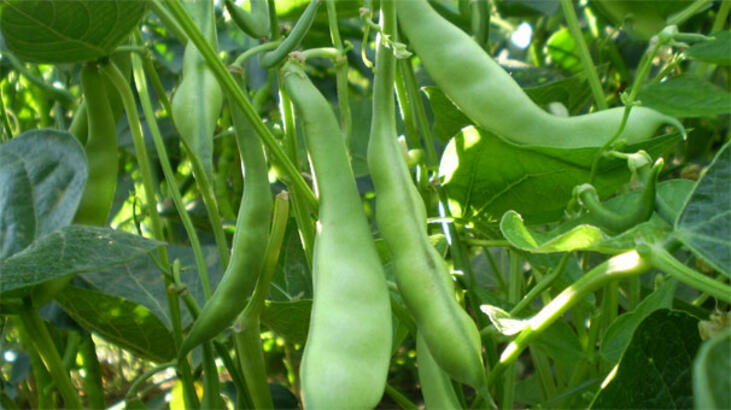Beans: (361, 1, 504, 400), (291, 55, 386, 410)
